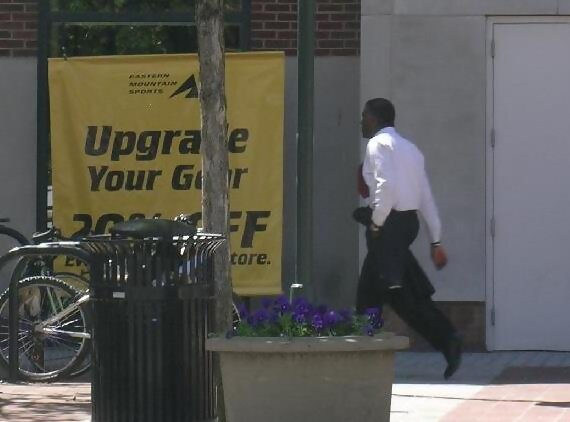person: (349, 97, 476, 382)
